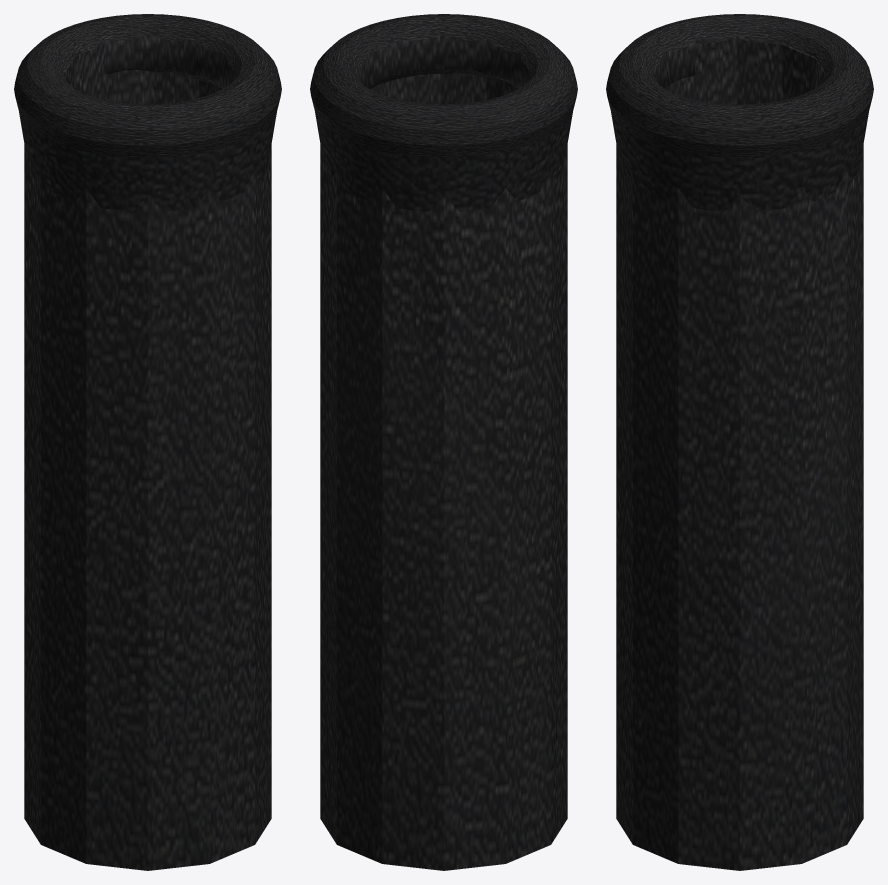
Rendered from 3inchSingleTube.fbx.
3 views of the same model, side by side, from view 1: azimuth 30°, elevation 25°; view 2: azimuth 150°, elevation 25°; view 3: azimuth 270°, elevation 25° (orthographic).
Visible parts, largest first — view 1: Cylinder, Torus; view 2: Cylinder, Torus; view 3: Cylinder, Torus.
Part boxes in pixels (x1,y1,x2,y2): Cylinder: (24,43,271,870); Torus: (14,14,281,211); Cylinder: (320,73,567,870); Torus: (310,14,577,211); Cylinder: (616,38,863,870); Torus: (606,14,873,211).
Bounding box in the file's own units: 0.1625 × 0.507 × 0.1625.
Materials: 2 (2 with a texture image).
